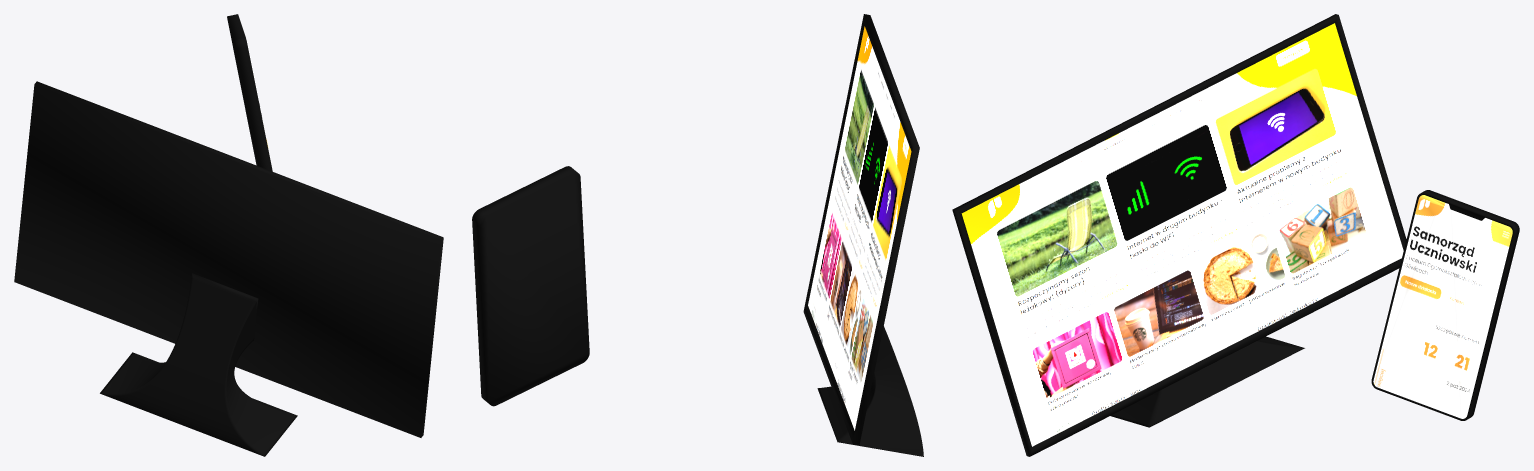
Rendered from suilo.glb.
The picture shows the model from 3 angles, left to right: view 1: azimuth 30°, elevation 25°; view 2: azimuth 150°, elevation 25°; view 3: azimuth 270°, elevation 25°; orthographic projection. The views are drawn at different scales.
Visible parts, largest first — view 1: monitor, phone; view 2: phone, Monitor_screen, monitor; view 3: Monitor_screen, phone_screen, monitor, phone.
Boxes of the visible parts, left/top/right/bottom form: monitor: left=14, top=81, right=443, bottom=456; phone: left=227, top=14, right=272, bottom=171; phone: left=472, top=166, right=589, bottom=406; Monitor_screen: left=808, top=26, right=911, bottom=430; monitor: left=803, top=14, right=923, bottom=456; Monitor_screen: left=961, top=23, right=1403, bottom=446; phone_screen: left=1373, top=195, right=1512, bottom=418; monitor: left=952, top=14, right=1406, bottom=456; phone: left=1371, top=190, right=1519, bottom=420.
Size of the model in its own units: 1.89 by 1.93 by 2.92.
Materials: 3 (2 with a texture image).
